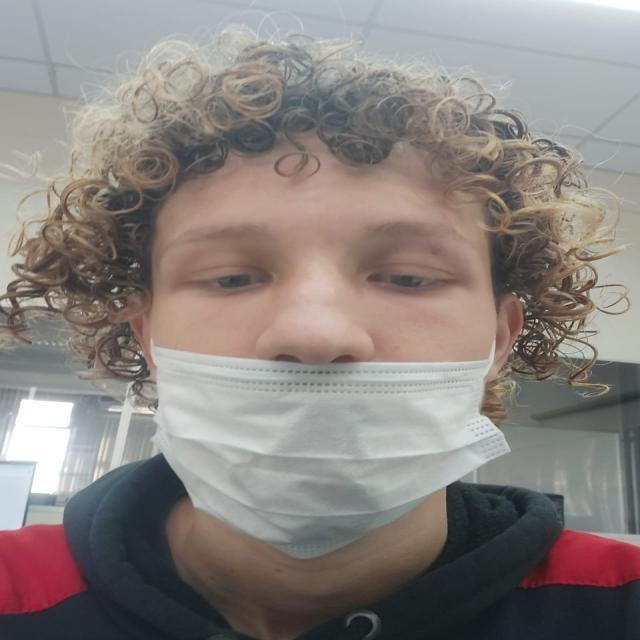hairnet: (121, 294, 513, 541)
